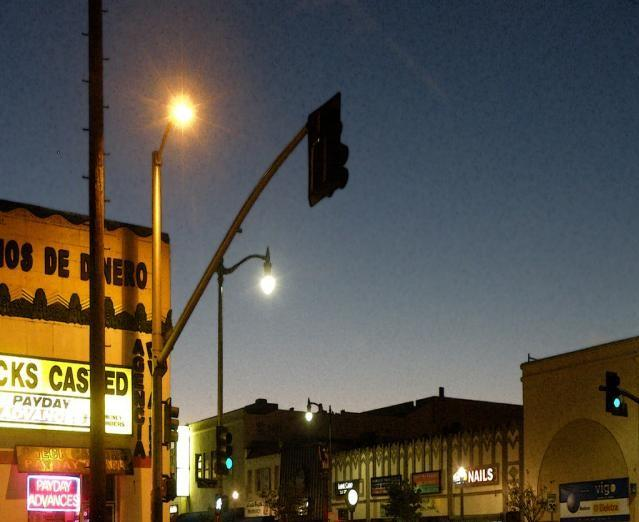green_light: (216, 424, 234, 475), (606, 371, 622, 413)
